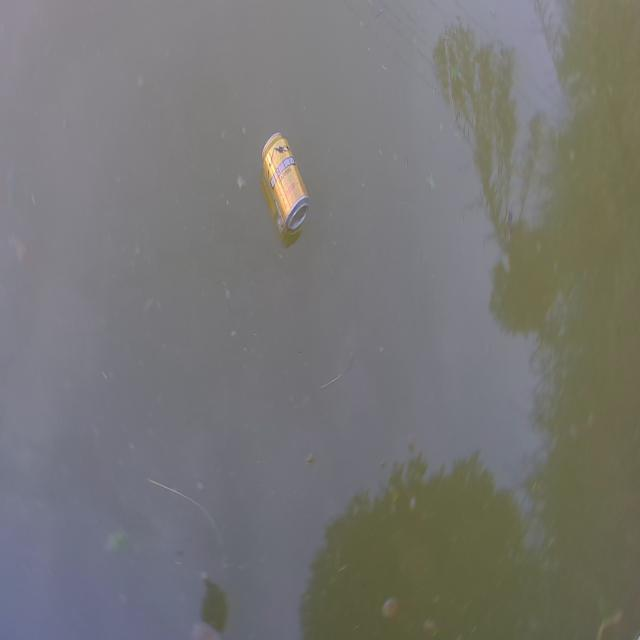garbage: (261, 130, 309, 234)
